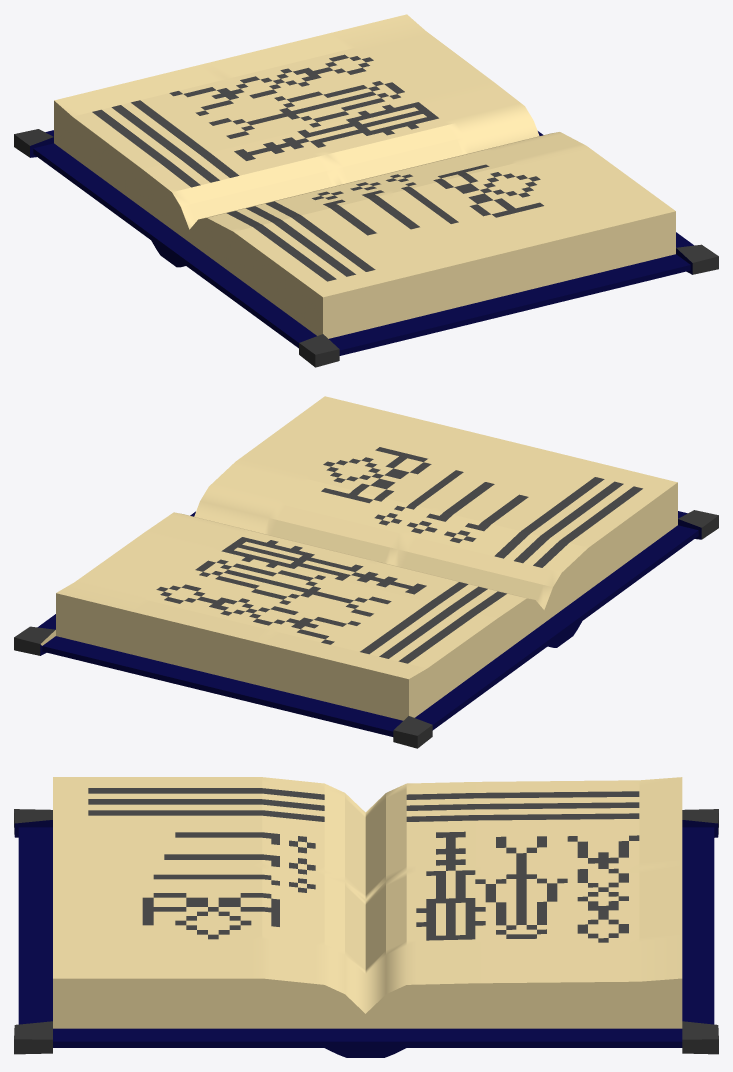
Rendered from SKILL_BOOK.fbx.
3 renders of one model, top to bottom at view 1: azimuth 30°, elevation 25°; view 2: azimuth 150°, elevation 25°; view 3: azimuth 270°, elevation 25°, orthographic. The views are drawn at different scales.
Parts seen in each view (by area): view 1: pCube19; view 2: pCube19; view 3: pCube19.
Boxes of the visible parts, x1,y1,x2,y2 form: pCube19: (14,14,718,367); pCube19: (14,396,718,748); pCube19: (14,777,718,1057).
Size of the model in its own units: 2.6 by 0.3501 by 3.37.
